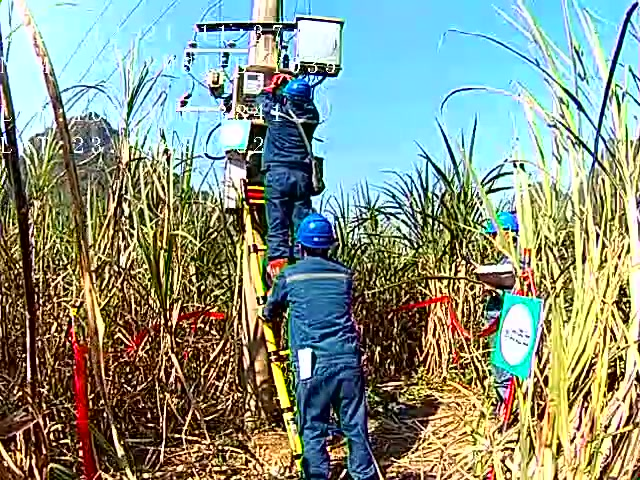downsuit: (293, 363, 369, 477), (265, 171, 310, 246)
halt: (294, 214, 336, 257), (482, 208, 517, 254), (278, 75, 313, 106)
intosign: (490, 292, 543, 377)
longglove: (263, 70, 286, 94)
person: (262, 212, 379, 480), (258, 71, 324, 252), (479, 206, 523, 416)
upsuit: (271, 260, 361, 353), (257, 96, 323, 174)
